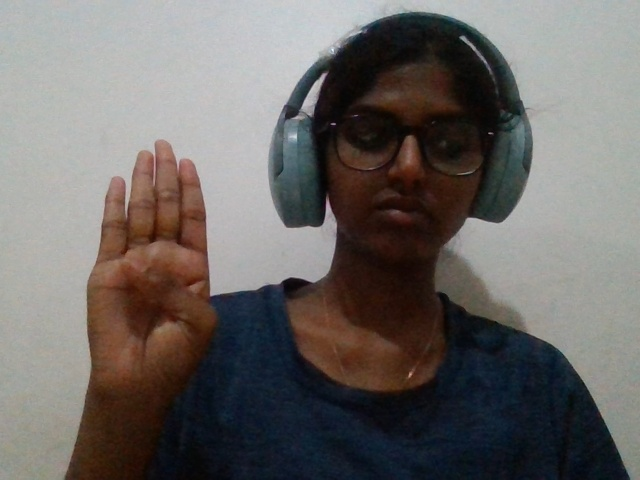B: (32, 120, 263, 469)
